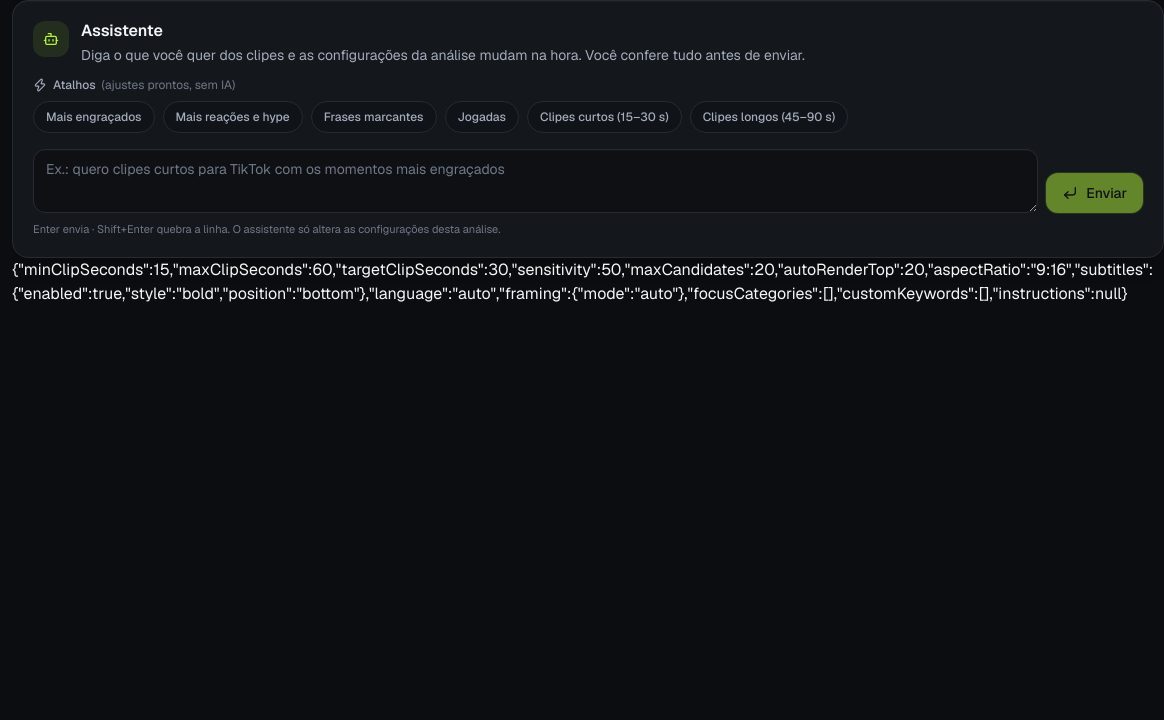
it: AssistantPanel › explains rate limits and the monthly message limit
Type "oi" into the text box named "Mensagem para o assistente" at (536, 181), box [33,149,1038,212]
Then press Enter
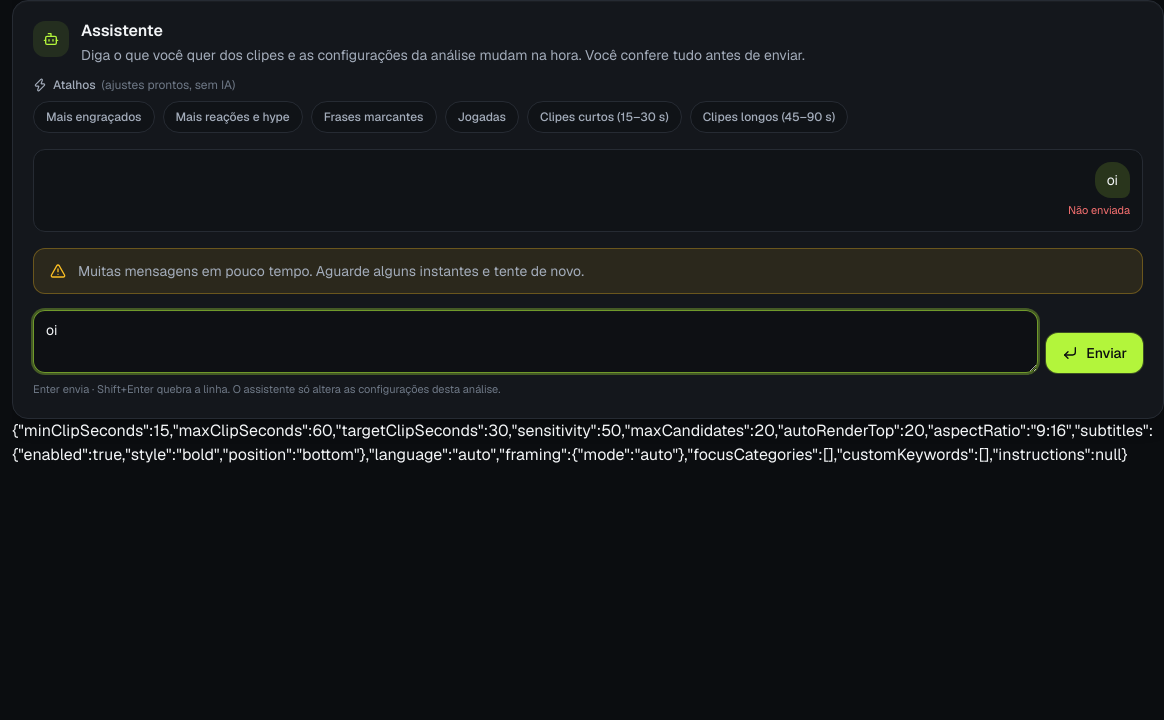
Result: the text "Muitas mensagens em pouco tempo" is shown at [78,262,584,280]
Click the button "Enviar" at (1095, 353), box [1046,333,1143,373]
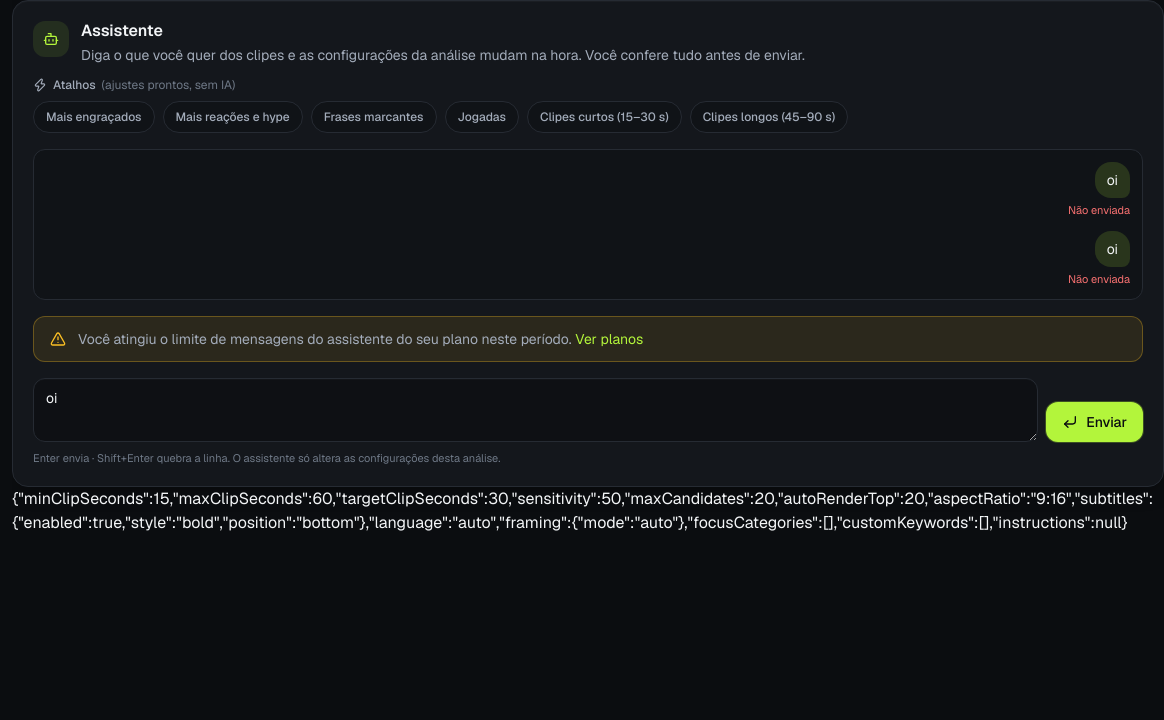
Result: the text "limite de mensagens do assistente do seu plano" is shown at [78,330,572,348]
